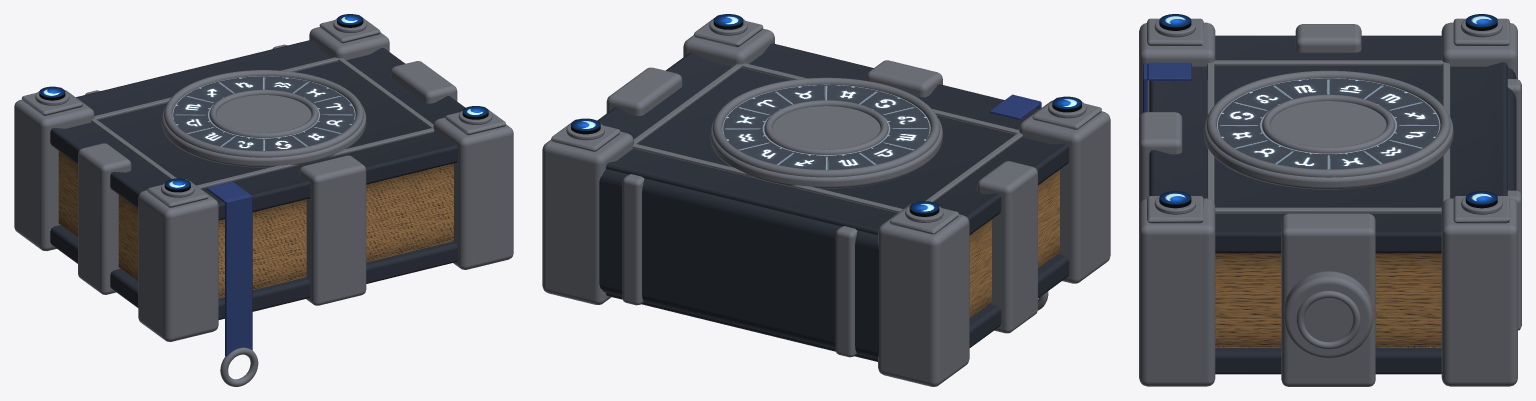
The model's file is arcane_tome.glb.
3 views of the same model, side by side, from view 1: azimuth 30°, elevation 25°; view 2: azimuth 150°, elevation 25°; view 3: azimuth 270°, elevation 25° (orthographic). The views are drawn at different scales.
Parts seen in each view (by area): view 1: Tome_CoverTop, Tome_Pages, Tome_Corner1, Tome_ClampFront, Tome_Corner0, Tome_GlyphRing, Tome_Corner3, Tome_ClampLeft, Tome_DialBase, Tome_CoverBottom, Tome_StrapDrop, Tome_DialRimOuter (+13 smaller); view 2: Tome_Spine, Tome_CoverTop, Tome_Corner3, Tome_Corner2, Tome_GlyphRing, Tome_Corner1, Tome_ClampLeft, Tome_DialBase, Tome_DialRimOuter, Tome_Pages, Tome_CoverBottom, Tome_SpineRib0 (+14 smaller); view 3: Tome_CoverTop, Tome_Corner0, Tome_Corner2, Tome_Pages, Tome_ClampRight, Tome_GlyphRing, Tome_DialBase, Tome_Knob, Tome_DialRimOuter, Tome_CoverBottom, Tome_ClampFront, Tome_DialRimInner (+24 smaller).
Part boxes in pixels (x1,y1,x2,y2): Tome_CoverTop: (50,39,465,220); Tome_Pages: (58,151,453,297); Tome_Corner1: (138,181,218,341); Tome_ClampFront: (299,155,366,305); Tome_Corner0: (433,117,513,269); Tome_GlyphRing: (172,76,355,150); Tome_Corner3: (14,90,94,250); Tome_ClampLeft: (78,143,131,294); Tome_DialBase: (161,95,366,167); Tome_CoverBottom: (50,225,457,319); Tome_StrapDrop: (225,195,252,356); Tome_DialRimOuter: (164,70,363,157); Tome_Spine: (599,169,878,358); Tome_CoverTop: (597,43,1069,234); Tome_Corner3: (878,204,969,386); Tome_Corner2: (542,131,633,304); Tome_GlyphRing: (722,84,930,169); Tome_Corner1: (1019,100,1110,283); Tome_ClampLeft: (977,161,1037,333); Tome_DialBase: (710,106,942,188); Tome_DialRimOuter: (712,77,940,177); Tome_Pages: (969,169,1059,317); Tome_CoverBottom: (606,254,1069,361); Tome_SpineRib0: (835,226,857,357); Tome_CoverTop: (1149,35,1507,253); Tome_Corner0: (1139,198,1215,386); Tome_Corner2: (1441,198,1517,386); Tome_Pages: (1215,253,1441,347); Tome_ClampRight: (1281,213,1375,386); Tome_GlyphRing: (1217,78,1440,169); Tome_DialBase: (1203,101,1453,189); Tome_Knob: (1284,271,1373,358); Tome_DialRimOuter: (1206,70,1450,177); Tome_CoverBottom: (1215,347,1441,374); Tome_ClampFront: (1139,112,1182,206); Tome_DialRimInner: (1262,94,1394,153).
Size of the model in its own units: 1.11 by 0.584 by 0.812.
7 materials, 2 textured.
